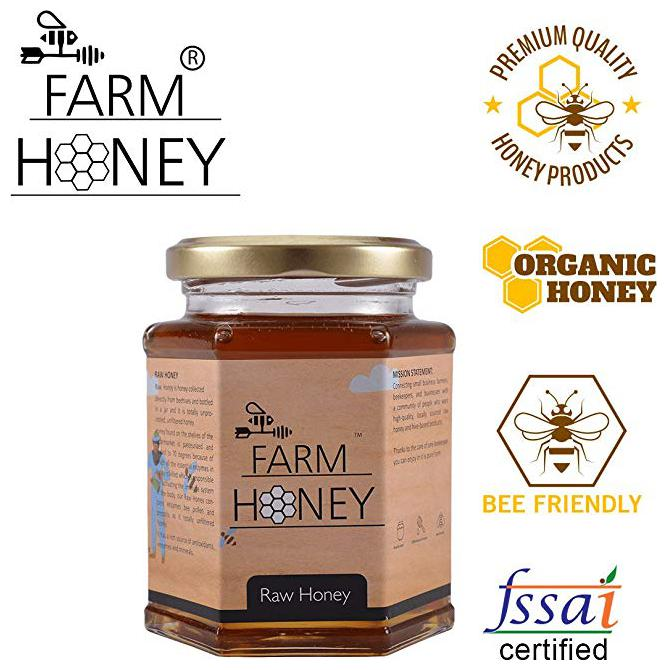fssai: (481, 564, 620, 637)
